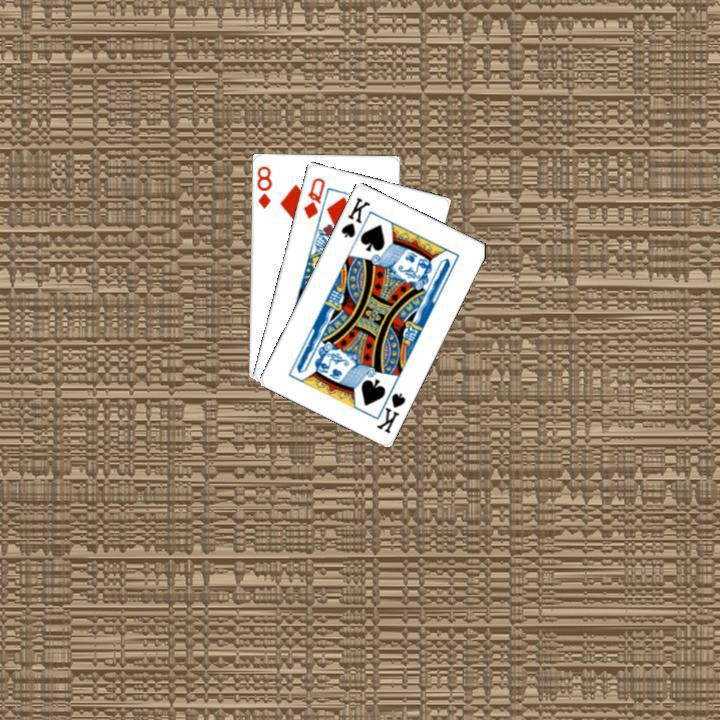8: (252, 161, 274, 210)
K: (371, 380, 407, 435), (336, 192, 372, 239)
Q: (299, 173, 327, 220)
